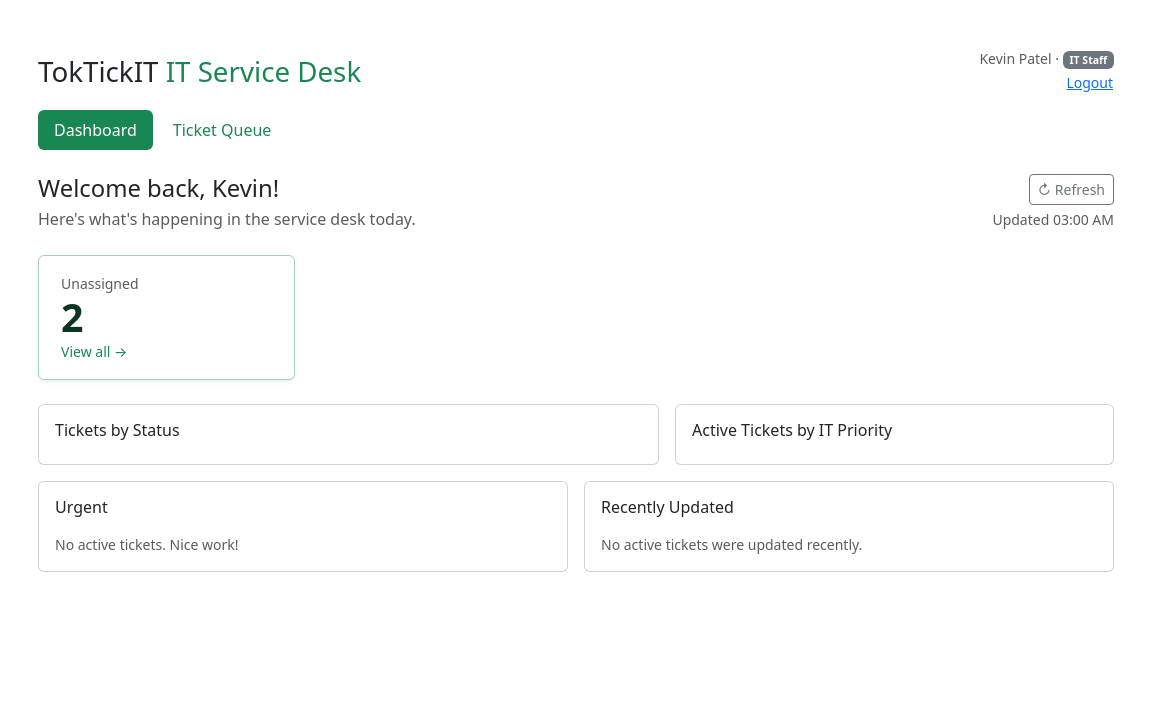
Test: App › drills down from a dashboard card to the filtered Ticket Queue
Click the button with aria-label "Unassigned: 2. View list". click: (166, 318)
box: [38, 255, 295, 380]
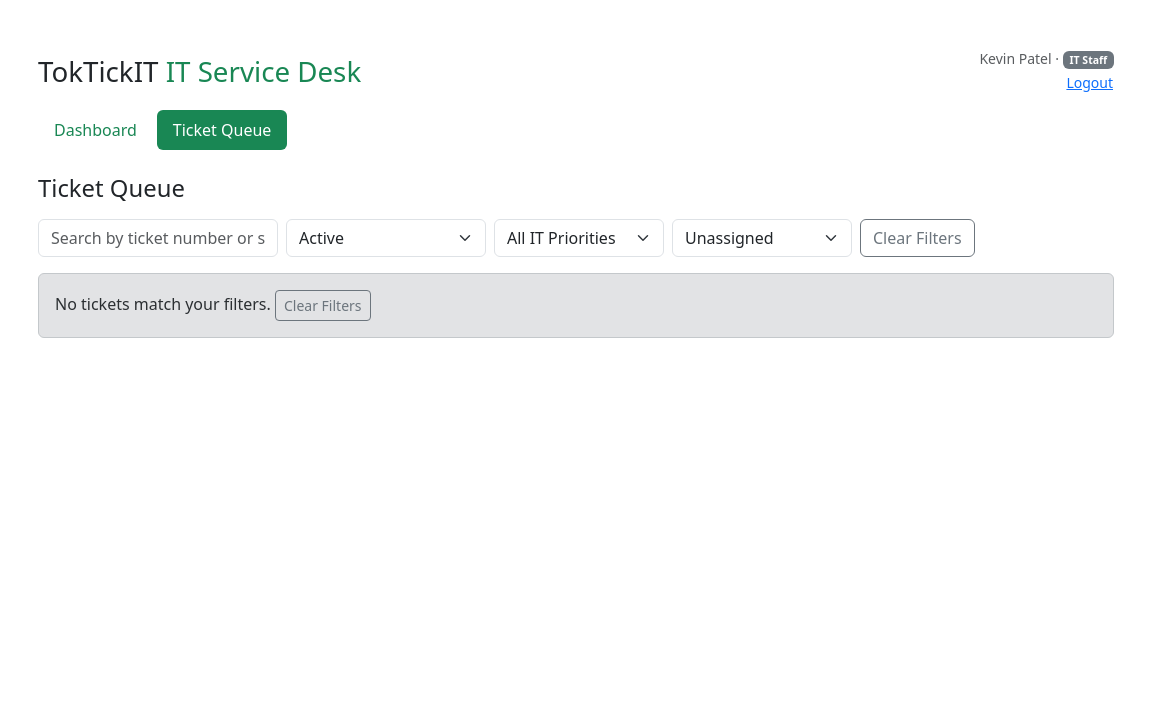
Expected: the heading "Ticket Queue" is shown, [38, 172, 185, 204]
